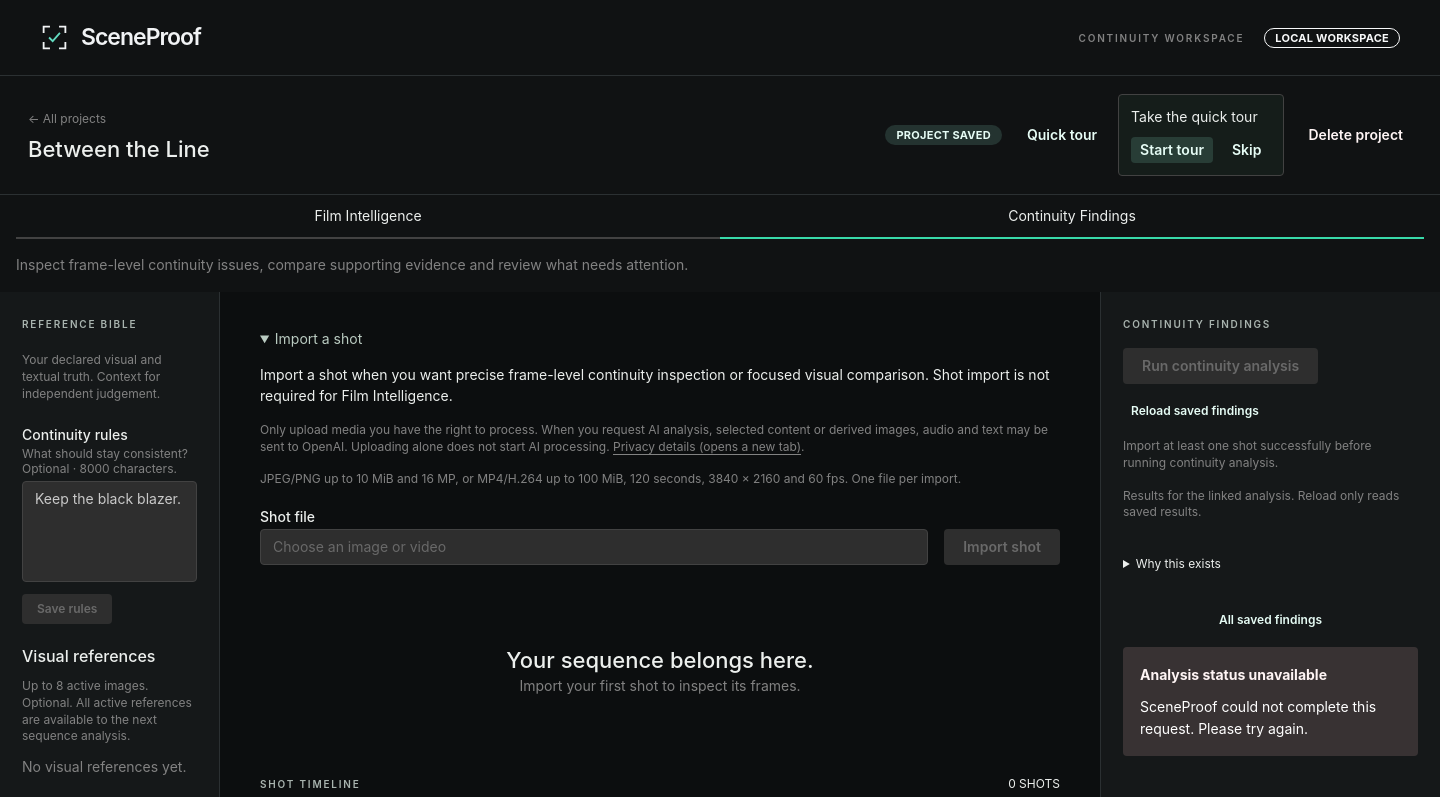
Scenario: project critical path › keeps findings visible when clearing its analysis link
Click the button "All saved findings" at (1270, 620), box [1123, 609, 1418, 631]
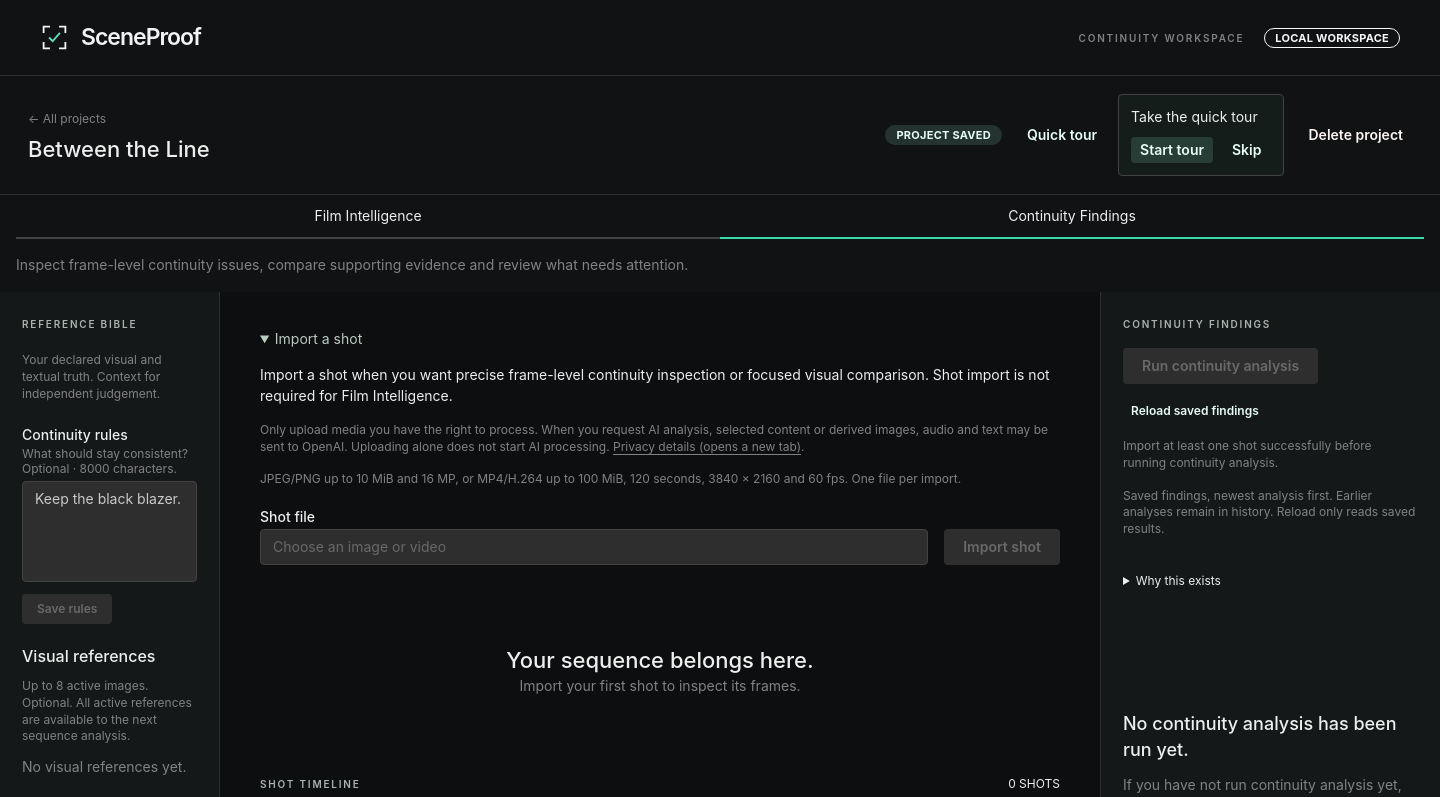
Check: the heading "No continuity analysis has been run yet." is shown, box [1123, 711, 1418, 763]
